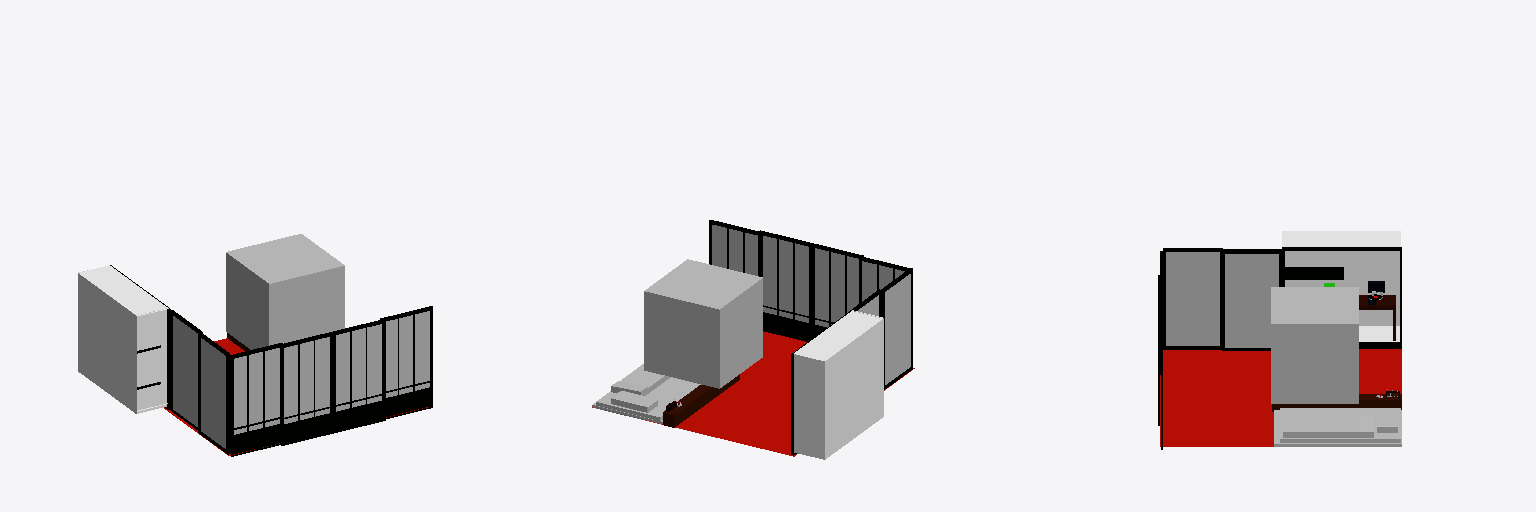
Rendered from room_V4.obj.
3 views of the same model, side by side, from view 1: azimuth 30°, elevation 25°; view 2: azimuth 150°, elevation 25°; view 3: azimuth 270°, elevation 25° (orthographic).
Visible parts, largest first — view 1: Cube.002_Cube.043, Zashiki_wall1_Plane.014, paper_door2_Plane.019, paper_door3_Plane.009, paper_door4_Plane.017, paper_door1_Plane.018, Zashiki_wall2_Plane.015, paper_door6_Plane.006, paper_door5_Plane.010, Sliding_door_2_Cube.005, Zashiki_wall4_Plane.013, Sliding_door_3_Cube.022 (+3 smaller); view 2: Cube.002_Cube.043, floor_Plane, Zashiki_wall1_Plane.014, paper_door2_Plane.019, Zashiki_wall3_Plane.003, paper_door3_Plane.009, paper_door5_Plane.010, Zashiki_wall4_Plane.013, paper_door1_Plane.018, mattress__Cube, Sliding_door_3_Cube.022, Bedside_table__Cube.004 (+5 smaller); view 3: floor_Plane, Cube.002_Cube.043, paper_door5_Plane.010, paper_door6_Plane.006, Zashiki_wall1_Plane.014, Zashiki_wall4_Plane.013, mattress__Cube, quilt__Cube.010, Zashiki__Cube.016, ddSliding_door_1_Cube.027, Bedside_table__Cube.004, ddSliding_door_2_Cube.014 (+4 smaller).
Part boxes in pixels (x1,y1,x2,y2): Cube.002_Cube.043: (226, 234, 344, 349); Zashiki_wall1_Plane.014: (78, 273, 136, 413); paper_door2_Plane.019: (336, 324, 381, 411); paper_door3_Plane.009: (284, 337, 329, 423); paper_door4_Plane.017: (234, 348, 279, 434); paper_door1_Plane.018: (386, 311, 429, 397); Zashiki_wall2_Plane.015: (137, 308, 166, 413); paper_door6_Plane.006: (173, 316, 197, 426); paper_door5_Plane.010: (201, 338, 225, 448); Sliding_door_2_Cube.005: (281, 332, 333, 445); Zashiki_wall4_Plane.013: (79, 265, 168, 316); Sliding_door_3_Cube.022: (333, 319, 385, 432); Cube.002_Cube.043: (644, 259, 762, 388); floor_Plane: (592, 331, 914, 456); Zashiki_wall1_Plane.014: (825, 319, 883, 459); paper_door2_Plane.019: (763, 236, 808, 322); Zashiki_wall3_Plane.003: (794, 354, 824, 459); paper_door3_Plane.009: (815, 248, 858, 327); paper_door5_Plane.010: (885, 274, 910, 384); Zashiki_wall4_Plane.013: (794, 310, 882, 360); paper_door1_Plane.018: (712, 225, 757, 275); mattress__Cube: (596, 377, 700, 420); Sliding_door_3_Cube.022: (760, 230, 811, 341); Bedside_table__Cube.004: (663, 374, 739, 427); floor_Plane: (1160, 349, 1401, 446); Cube.002_Cube.043: (1271, 287, 1358, 403); paper_door5_Plane.010: (1166, 252, 1219, 345); paper_door6_Plane.006: (1225, 254, 1278, 347); Zashiki_wall1_Plane.014: (1285, 251, 1399, 325); Zashiki_wall4_Plane.013: (1282, 231, 1400, 246); mattress__Cube: (1280, 408, 1400, 442); quilt__Cube.010: (1283, 416, 1373, 437); Zashiki__Cube.016: (1282, 247, 1401, 348); ddSliding_door_1_Cube.027: (1163, 248, 1222, 349); Bedside_table__Cube.004: (1272, 394, 1401, 411); ddSliding_door_2_Cube.014: (1222, 249, 1281, 350).
Bounding box in the file's own units: 6.2 × 6.9 × 5.59.